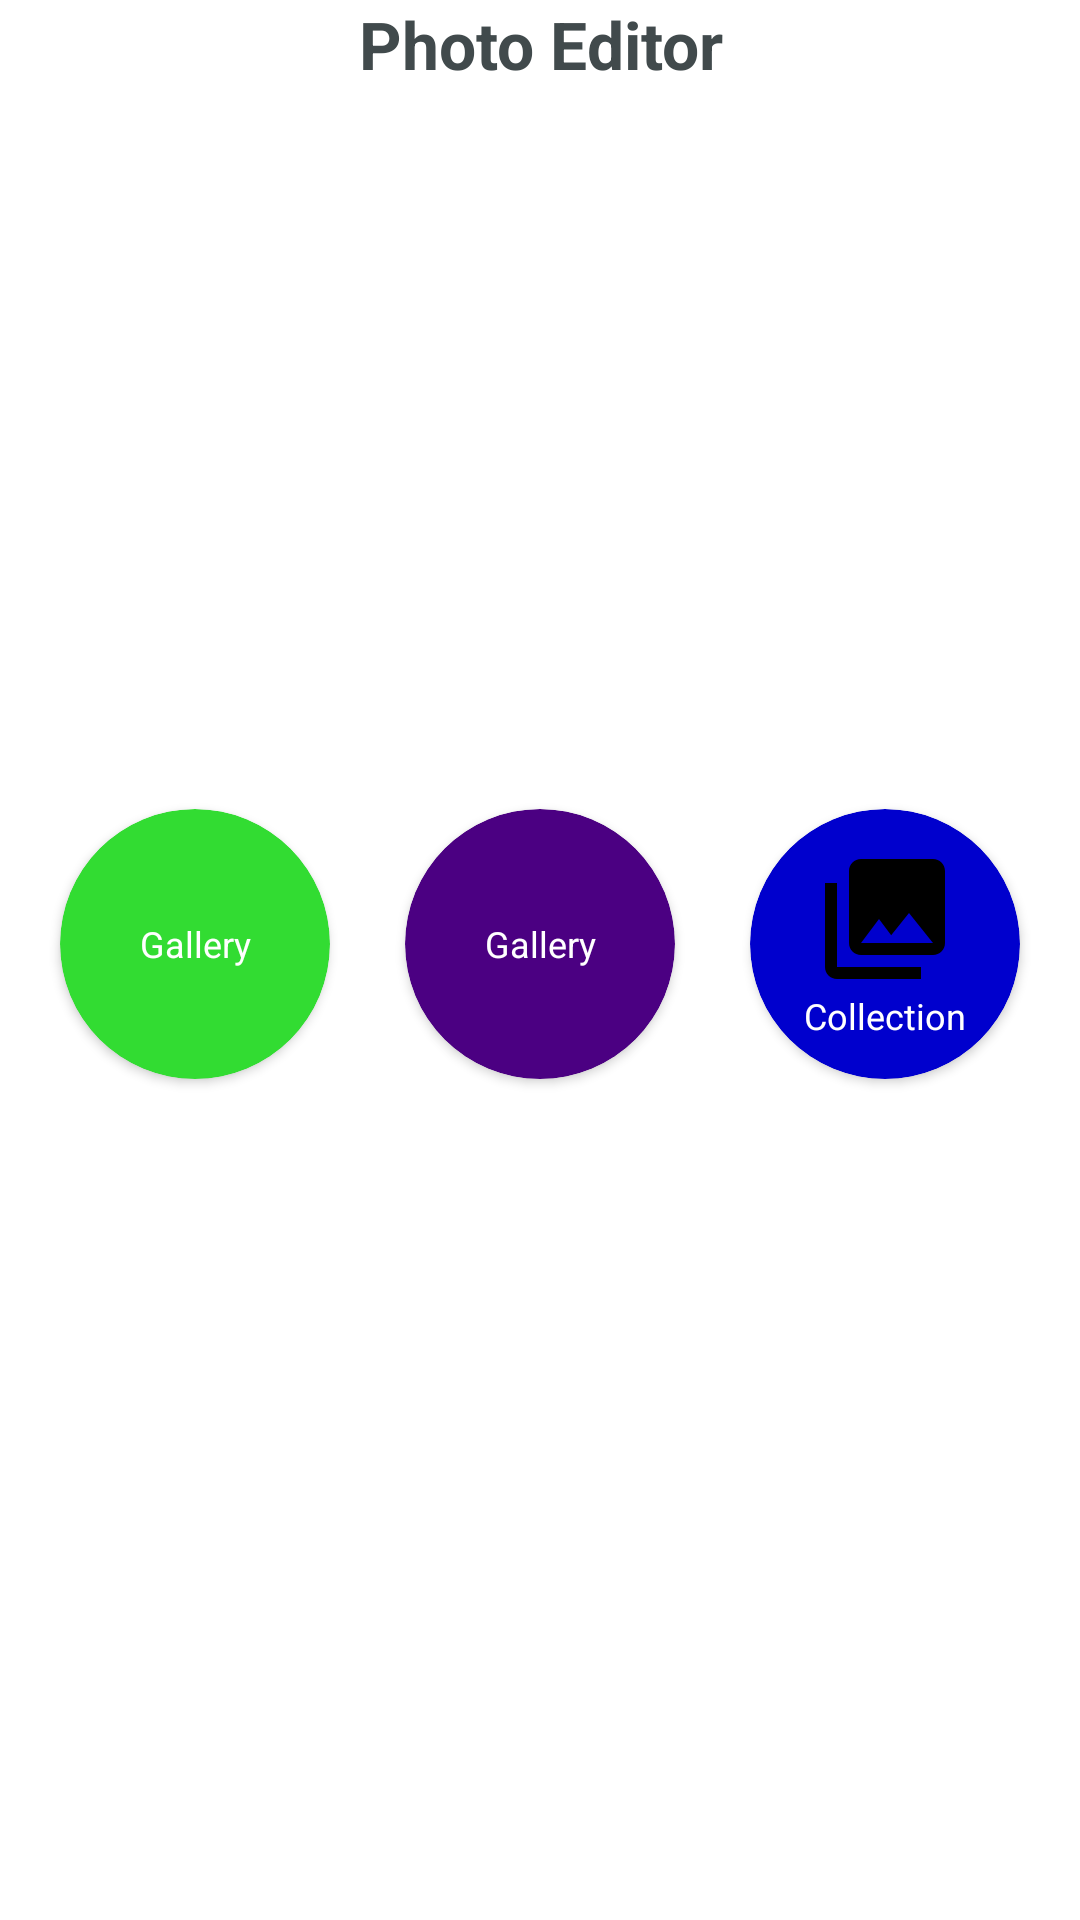

Locate icon controls on the screen. Image size 1080w x 1920h, boxes as Rect(x1, y1, x2, y2).
photo library: Rect(825, 859, 945, 979)
